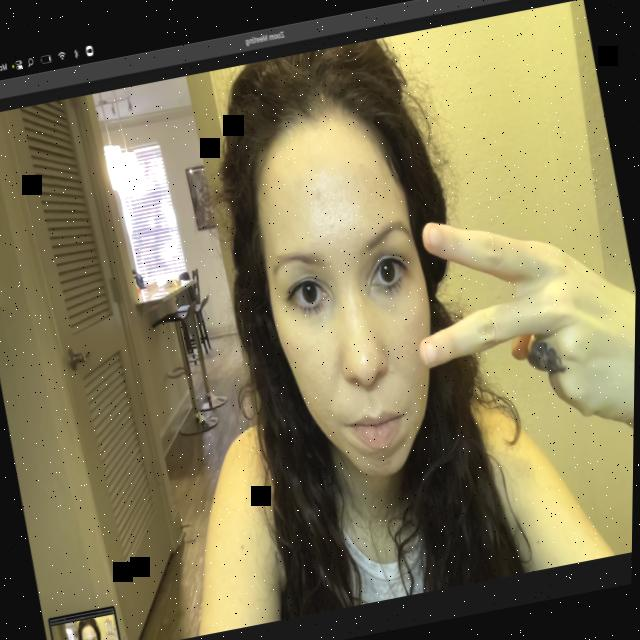Scissors: (394, 188, 638, 473)
